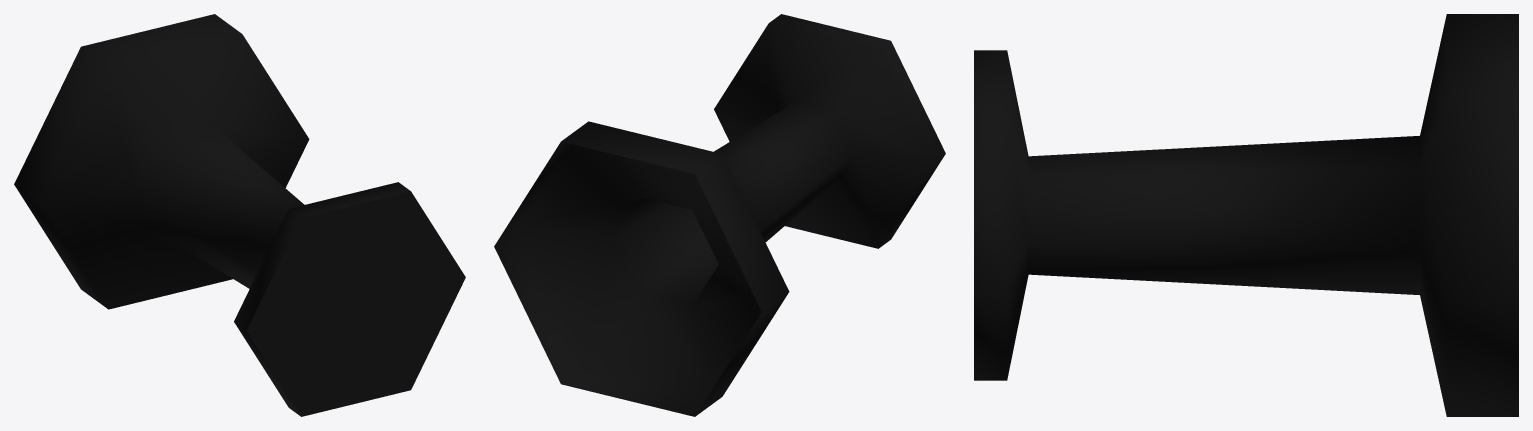
File: Pushpin_Black.fbx
3 renders of one model, left to right at view 1: azimuth 30°, elevation 25°; view 2: azimuth 150°, elevation 25°; view 3: azimuth 270°, elevation 25°, orthographic. The views are drawn at different scales.
Parts seen in each view (by area): view 1: Pushpin_Black; view 2: Pushpin_Black; view 3: Pushpin_Black.
Part boxes in pixels (left/top/right/bottom): Pushpin_Black: left=14, top=14, right=465, bottom=416; Pushpin_Black: left=494, top=14, right=945, bottom=416; Pushpin_Black: left=974, top=14, right=1518, bottom=416.
Size of the model in its own units: 0.9 by 0.7794 by 1.21.
